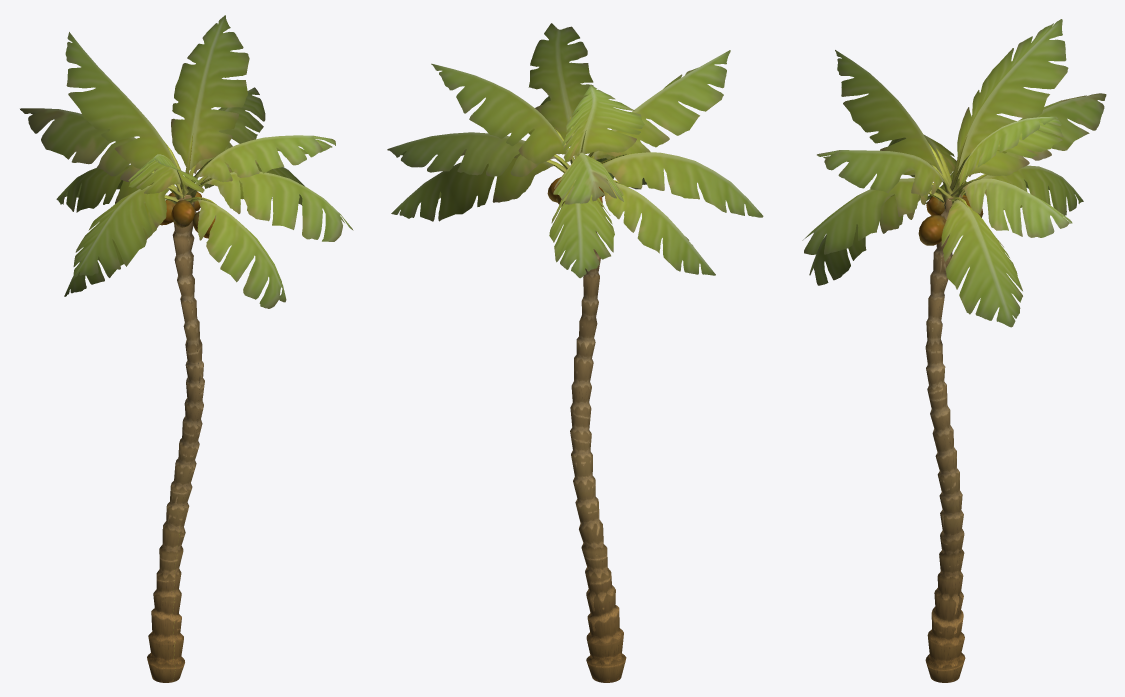
Rendered from coconut palm 02.obj.
3 renders of one model, left to right at view 1: azimuth 30°, elevation 25°; view 2: azimuth 150°, elevation 25°; view 3: azimuth 270°, elevation 25°, orthographic. The views are drawn at different scales.
Visible parts, largest first — view 1: tree; view 2: tree; view 3: tree.
Part boxes in pixels (left/top/right/bottom): tree: left=20, top=15, right=353, bottom=682; tree: left=387, top=23, right=763, bottom=682; tree: left=802, top=19, right=1106, bottom=682.
Bounding box in the file's own units: 429 × 847 × 382.
